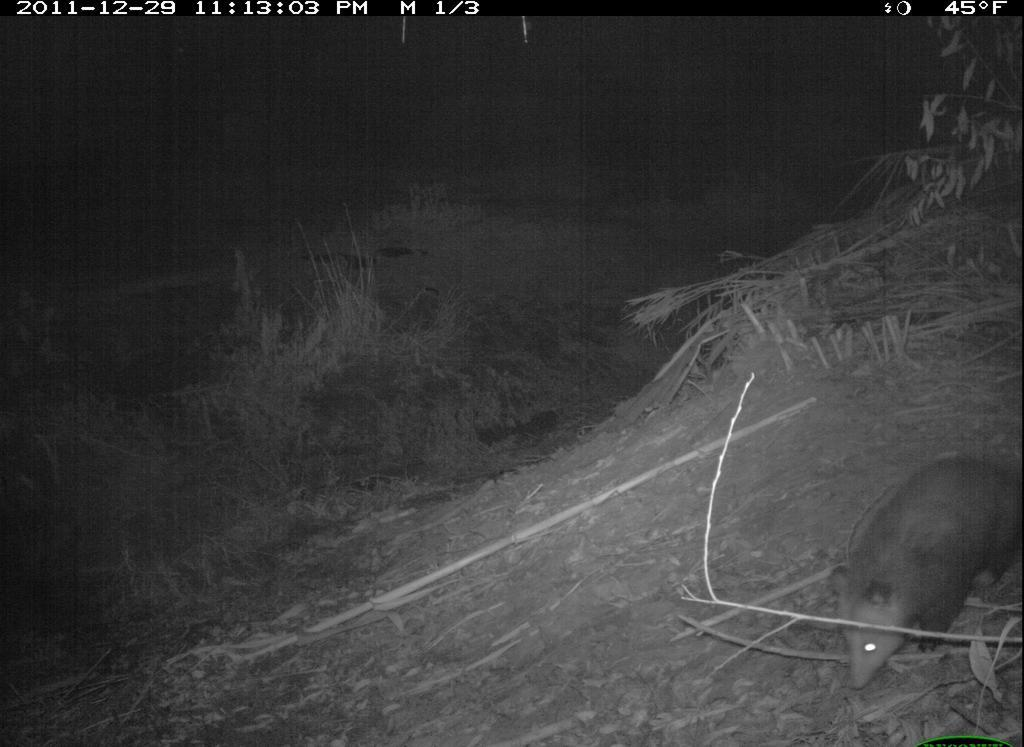opossum: (830, 451, 1023, 697)
